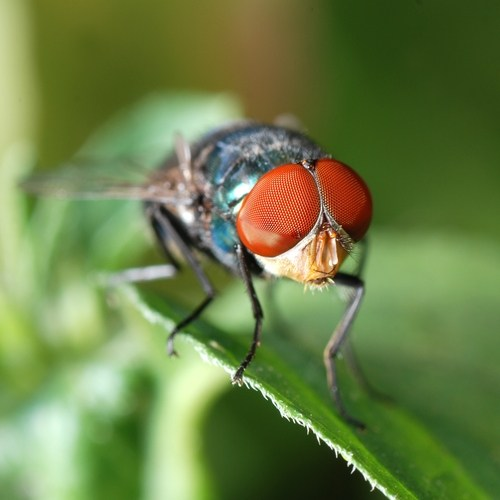green bottles flies: (11, 60, 423, 433)
